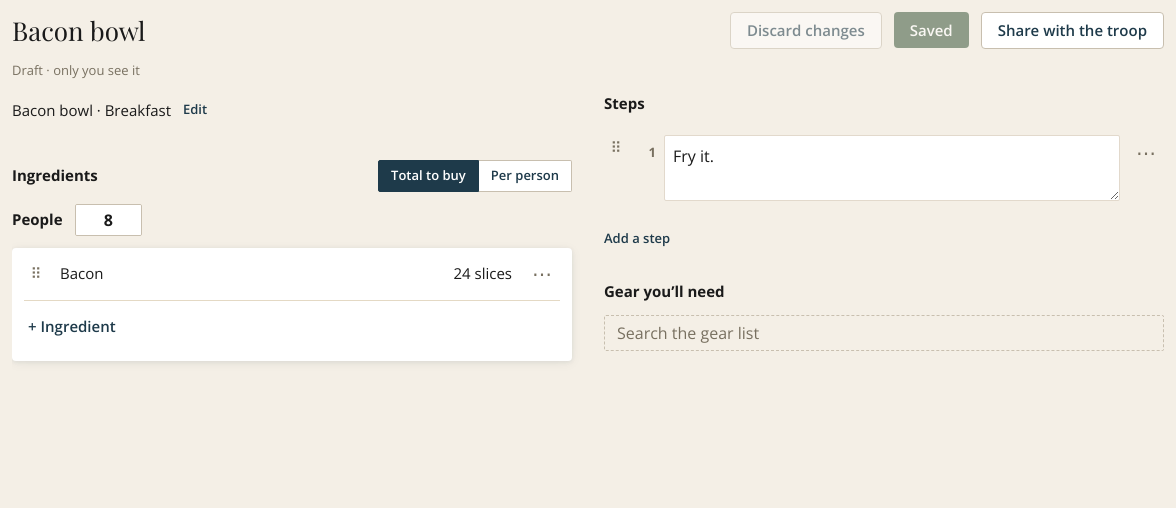
Test: RecipeEditor saving › Discard_ReturnsToTheSavedRecipe
This screenshot has width=1176, height=508.
Click the button "Edit" at coordinates (195, 110), box [183,92,207,128]
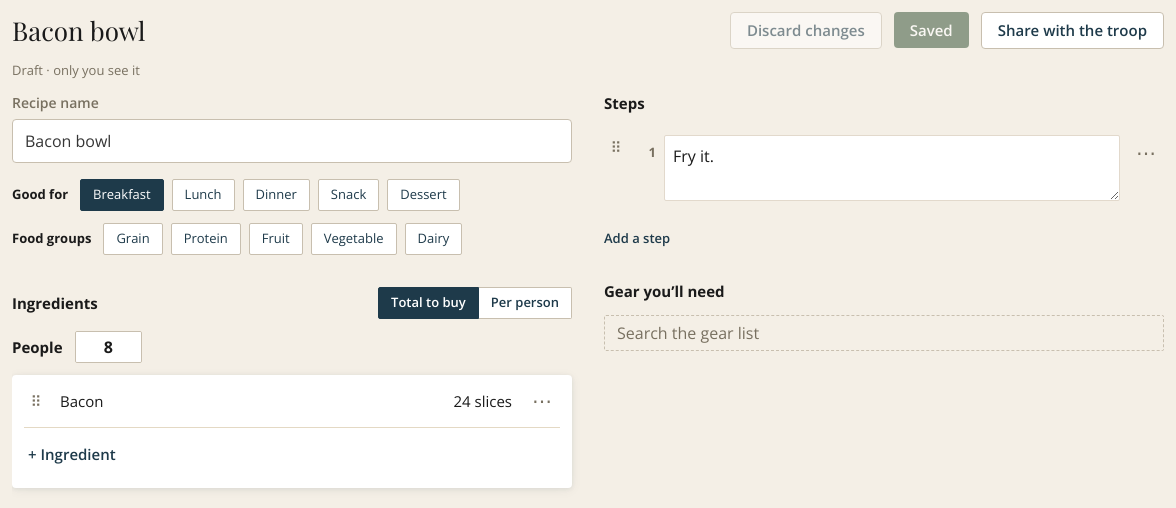
Type " deluxe" into the field labelled "Recipe name" at coordinates (292, 141), box [12,119,572,163]
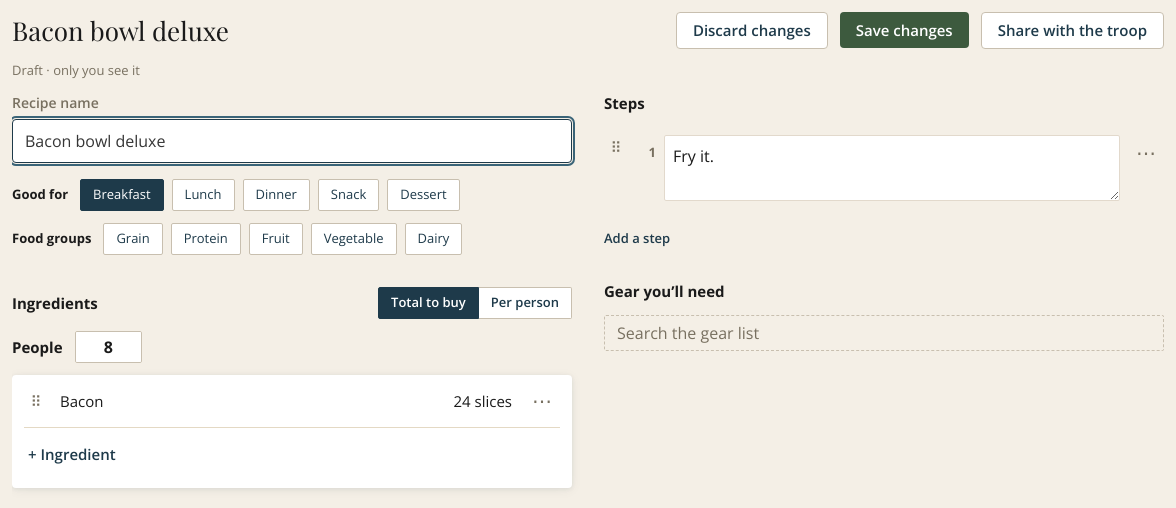
Click the button "Discard changes" at coordinates (752, 30), box [676,12,828,48]
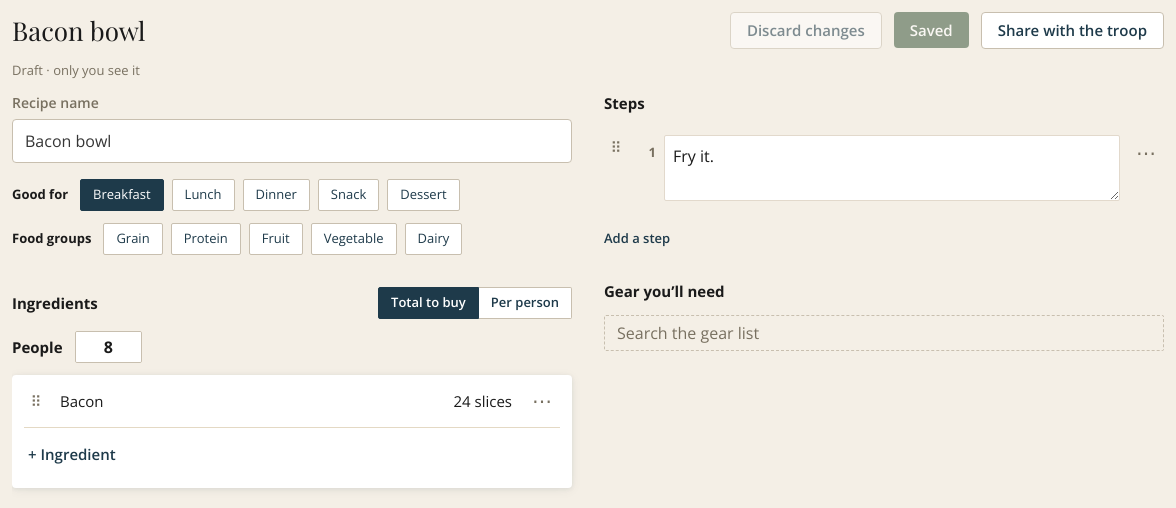
Expected: the field labelled "Recipe name" holds "Bacon bowl", [12,119,572,163]
